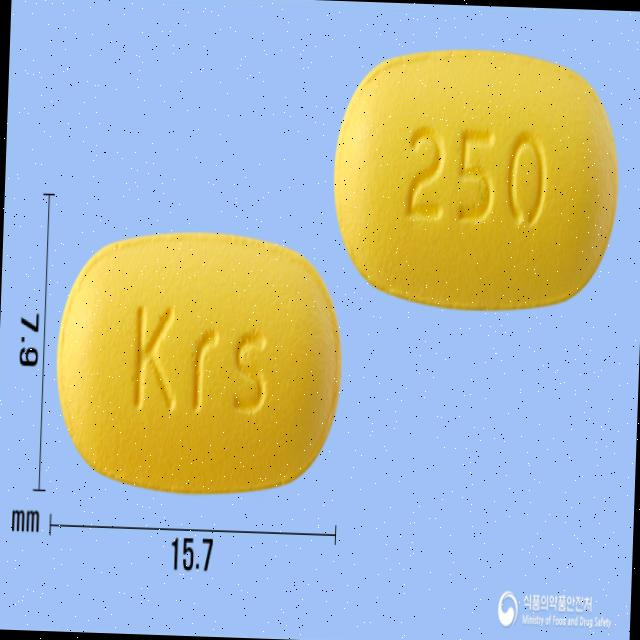Clomicin: (51, 225, 347, 500), (329, 44, 622, 318)
